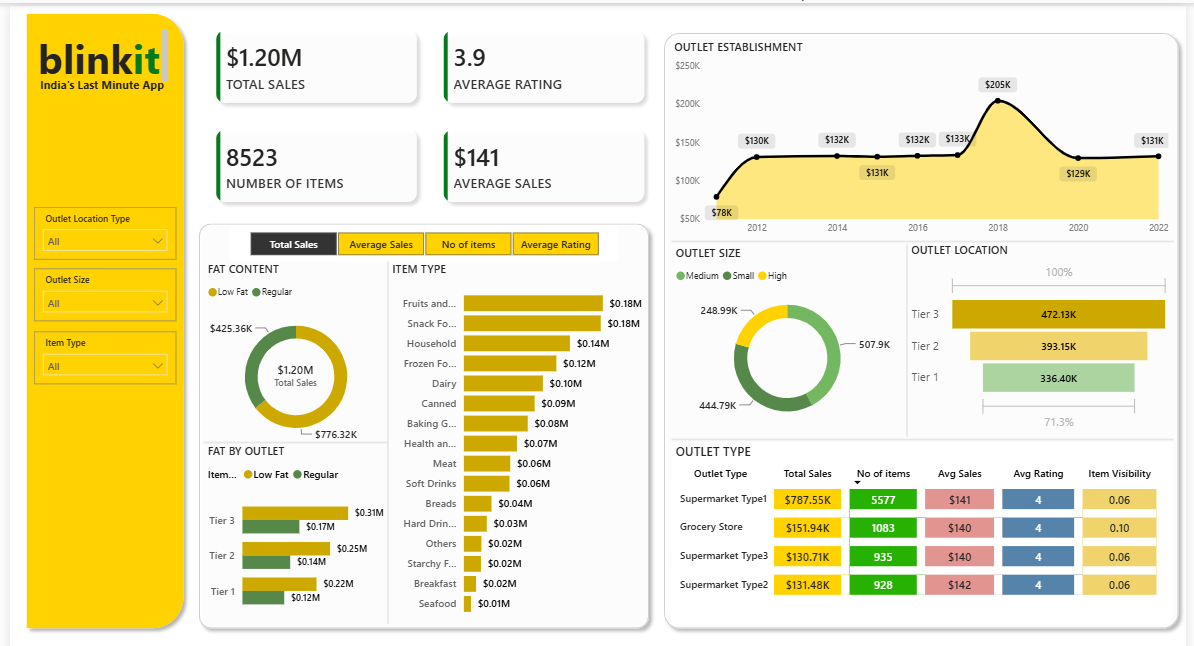

What the dashboard file says about the page in this screenshot:
{"tool":"powerbi","page":{"name":"Page 1","canvas":[1400,800],"ordinal":0},"visuals":[{"type":"shape","box":[10,0,205,750],"z":0},{"type":"textbox","box":[26.8,78.6,166.1,33.9],"z":1000},{"type":"textbox","box":[26.8,23.2,166.1,73.2],"z":2000},{"type":"cardVisual","fields":{"Data":["BlinkIT Grocery Data.Total Sales","BlinkIT Grocery Data.Average Rating","BlinkIT Grocery Data.No of items","BlinkIT Grocery Data.Average Sales"]},"box":[216.1,0,569.6,262.5],"z":3000},{"type":"shape","box":[216.1,250,553.6,500],"z":4000},{"type":"donutChart","title":"FAT CONTENT","fields":{"Y":["BlinkIT Grocery Data.Total Sales"],"Category":["BlinkIT Grocery Data.Item Fat Content"]},"box":[230.4,303.6,219.6,230.4],"z":5000},{"type":"slicer","fields":{"Values":["Metrix.Metrix"]},"box":[260.7,262.5,464.3,41.1],"z":6000},{"type":"cardVisual","fields":{"Data":["BlinkIT Grocery Data.Total Sales"]},"box":[283.9,400,112.5,78.6],"z":7000},{"type":"clusteredBarChart","title":"FAT BY OUTLET","fields":{"Y":["BlinkIT Grocery Data.Total Sales"],"Category":["BlinkIT Grocery Data.Outlet Location Type"],"Series":["BlinkIT Grocery Data.Item Fat Content"]},"box":[230.4,519.6,219.6,216.1],"z":8000},{"type":"shape","box":[230.4,512.5,219.6,14.3],"z":9000},{"type":"shape","box":[428.6,303.6,42.9,432.1],"z":10000},{"type":"barChart","title":"ITEM TYPE","fields":{"Y":["BlinkIT Grocery Data.Total Sales"],"Category":["BlinkIT Grocery Data.Item Type"]},"box":[450,303.6,307.1,432.1],"z":11000},{"type":"shape","box":[769.6,23.2,630.4,726.8],"z":12000},{"type":"lineChart","title":"OUTLET ESTABLISHMENT","fields":{"Y":["BlinkIT Grocery Data.Total Sales"],"Category":["BlinkIT Grocery Data.Outlet Establishment Year"]},"box":[785.7,39.3,598.2,241.1],"z":13000},{"type":"shape","box":[787.5,269.6,598.2,21.4],"z":14000},{"type":"donutChart","title":"OUTLET SIZE","fields":{"Y":["Sum(BlinkIT Grocery Data.Sales)"],"Category":["BlinkIT Grocery Data.Outlet Size"]},"box":[787.5,283.9,275,225],"z":15000},{"type":"shape","box":[1050,283.9,35.7,228.6],"z":16000},{"type":"funnel","title":"OUTLET LOCATION","fields":{"Category":["BlinkIT Grocery Data.Outlet Location Type"],"Y":["Sum(BlinkIT Grocery Data.Sales)"]},"box":[1067.9,280.4,317,230],"z":17000},{"type":"shape","box":[787.5,505.4,598.2,21.4],"z":18000},{"type":"pivotTable","title":"OUTLET TYPE","fields":{"Rows":["BlinkIT Grocery Data.Outlet Type"],"Values":["BlinkIT Grocery Data.Total Sales","BlinkIT Grocery Data.No of items","BlinkIT Grocery Data.Average Sales","BlinkIT Grocery Data.Average Rating","Avg(BlinkIT Grocery Data.Item Visibility)"]},"box":[787.5,519.6,596.4,216.1],"z":19000},{"type":"slicer","fields":{"Values":["BlinkIT Grocery Data.Outlet Location Type"]},"box":[28.6,239.3,169.6,62.5],"z":20000},{"type":"slicer","fields":{"Values":["BlinkIT Grocery Data.Outlet Size"]},"box":[28.6,312.5,169.6,62.5],"z":21000},{"type":"slicer","fields":{"Values":["BlinkIT Grocery Data.Item Type"]},"box":[28.6,387.5,169.6,62.5],"z":22000}]}

Visuals, with their boxes on the page's 1400x800 design canvas (x1, y1, x2, y2). These are canvas units, not pixel positions in the 1194x646 screenshot, which may show the page scaled, cropped or inside an application window:
shape: {"left": 10, "top": 0, "right": 215, "bottom": 750}
textbox: {"left": 27, "top": 79, "right": 193, "bottom": 112}
textbox: {"left": 27, "top": 23, "right": 193, "bottom": 96}
cardVisual - BlinkIT Grocery Data.Total Sales x BlinkIT Grocery Data.Average Rating: {"left": 216, "top": 0, "right": 786, "bottom": 262}
shape: {"left": 216, "top": 250, "right": 770, "bottom": 750}
"FAT CONTENT" donutChart: {"left": 230, "top": 304, "right": 450, "bottom": 534}
slicer - Metrix.Metrix: {"left": 261, "top": 262, "right": 725, "bottom": 304}
cardVisual - BlinkIT Grocery Data.Total Sales: {"left": 284, "top": 400, "right": 396, "bottom": 479}
"FAT BY OUTLET" clusteredBarChart: {"left": 230, "top": 520, "right": 450, "bottom": 736}
shape: {"left": 230, "top": 512, "right": 450, "bottom": 527}
shape: {"left": 429, "top": 304, "right": 472, "bottom": 736}
"ITEM TYPE" barChart: {"left": 450, "top": 304, "right": 757, "bottom": 736}
shape: {"left": 770, "top": 23, "right": 1400, "bottom": 750}
"OUTLET ESTABLISHMENT" lineChart: {"left": 786, "top": 39, "right": 1384, "bottom": 280}
shape: {"left": 788, "top": 270, "right": 1386, "bottom": 291}
"OUTLET SIZE" donutChart: {"left": 788, "top": 284, "right": 1062, "bottom": 509}
shape: {"left": 1050, "top": 284, "right": 1086, "bottom": 512}
"OUTLET LOCATION" funnel: {"left": 1068, "top": 280, "right": 1385, "bottom": 510}
shape: {"left": 788, "top": 505, "right": 1386, "bottom": 527}
"OUTLET TYPE" pivotTable: {"left": 788, "top": 520, "right": 1384, "bottom": 736}
slicer - BlinkIT Grocery Data.Outlet Location Type: {"left": 29, "top": 239, "right": 198, "bottom": 302}
slicer - BlinkIT Grocery Data.Outlet Size: {"left": 29, "top": 312, "right": 198, "bottom": 375}
slicer - BlinkIT Grocery Data.Item Type: {"left": 29, "top": 388, "right": 198, "bottom": 450}
